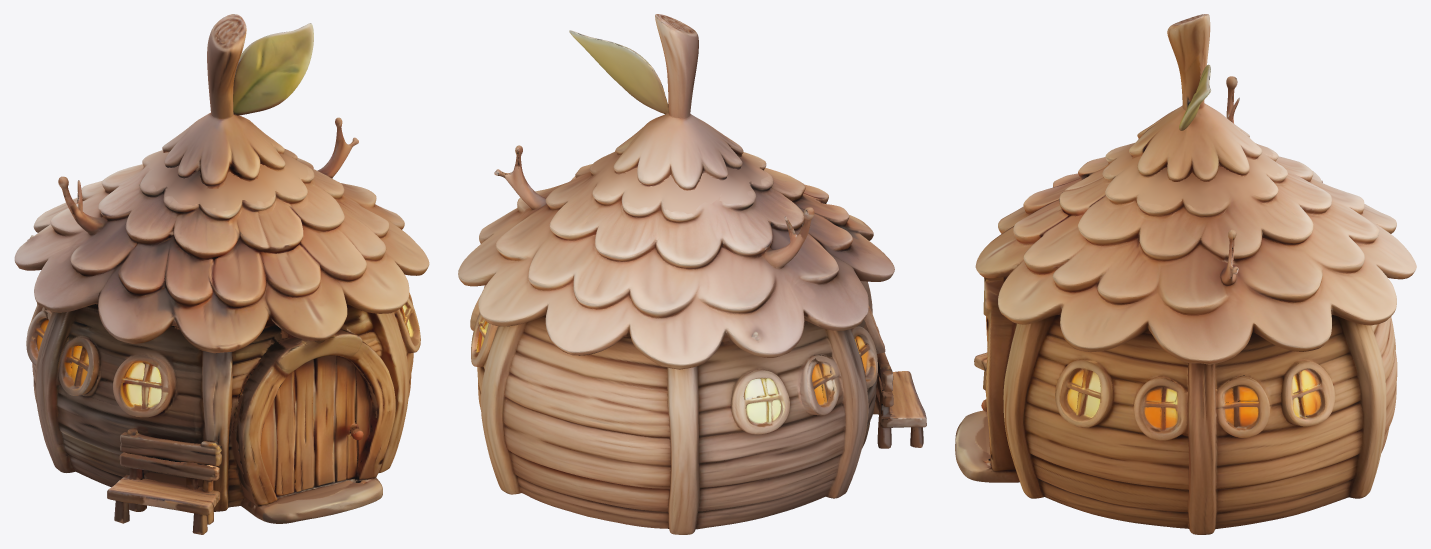
The model's file is casa.glb.
3 views of the same model, side by side, from view 1: azimuth 30°, elevation 25°; view 2: azimuth 150°, elevation 25°; view 3: azimuth 270°, elevation 25° (orthographic). The views are drawn at different scales.
Parts seen in each view (by area): view 1: model; view 2: model; view 3: model.
Boxes of the visible parts, x1=… form: model: x1=14, y1=14, x2=429, y2=534; model: x1=458, y1=14, x2=926, y2=534; model: x1=955, y1=14, x2=1416, y2=534.
Size of the model in its own units: 1.69 by 1.86 by 1.75.
1 material, 1 textured.
